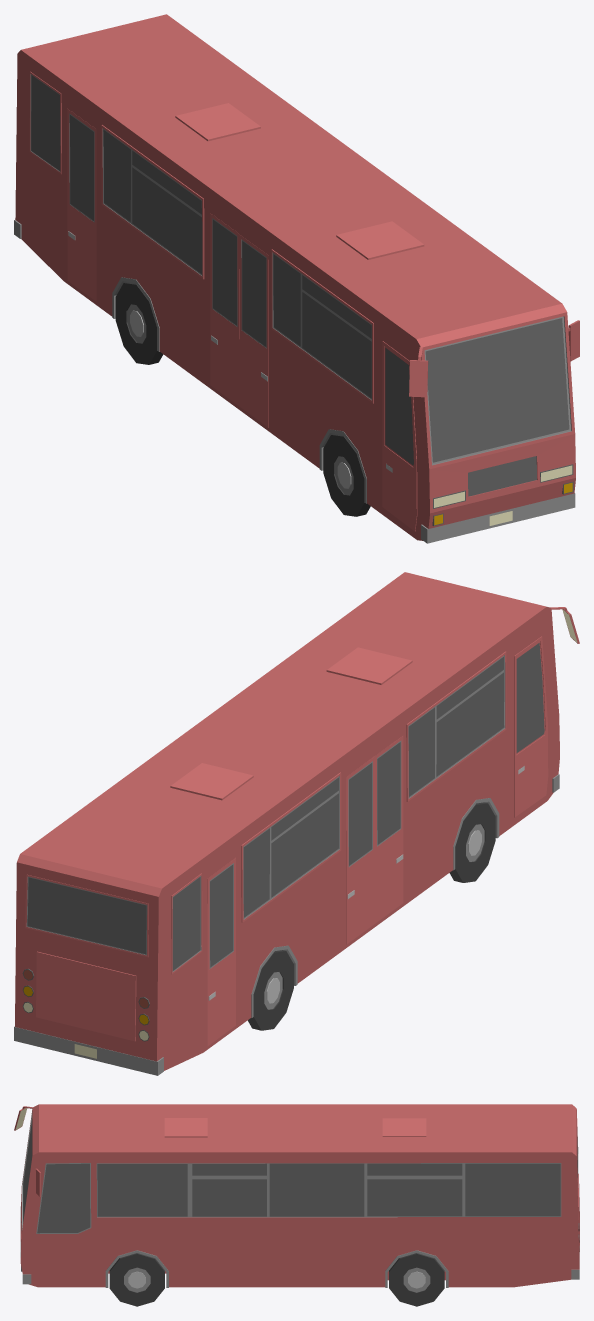
Rendered from bus_1.fbx.
The picture shows the model from 3 angles, top to bottom: view 1: azimuth 30°, elevation 25°; view 2: azimuth 150°, elevation 25°; view 3: azimuth 270°, elevation 25°; orthographic projection. The views are drawn at different scales.
Visible parts, largest first — view 1: vty, Cylinder_2_3, Cylinder_2_1; view 2: vty, Cylinder_2_1, Cylinder_2_3; view 3: vty, Cylinder_2, Cylinder_2_2.
Boxes of the visible parts, x1,y1,x2,y2 form: vty: (14,14,579,543); Cylinder_2_3: (115,282,163,364); Cylinder_2_1: (323,434,370,516); vty: (14,572,579,1075); Cylinder_2_1: (449,802,495,882); Cylinder_2_3: (248,950,293,1030); vty: (14,1104,579,1287); Cylinder_2: (109,1253,164,1306); Cylinder_2_2: (389,1253,444,1306).
Bounding box in the file's own units: 219 × 261 × 862.
